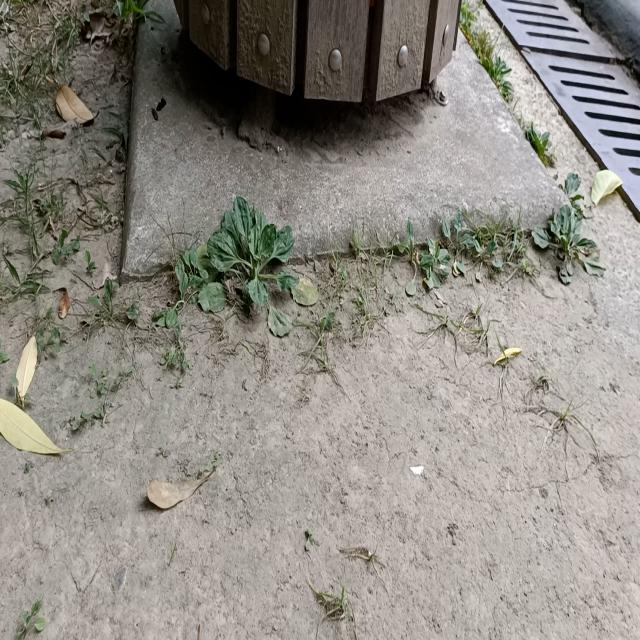grass: (175, 196, 300, 335)
white-sand: (0, 199, 640, 639)
